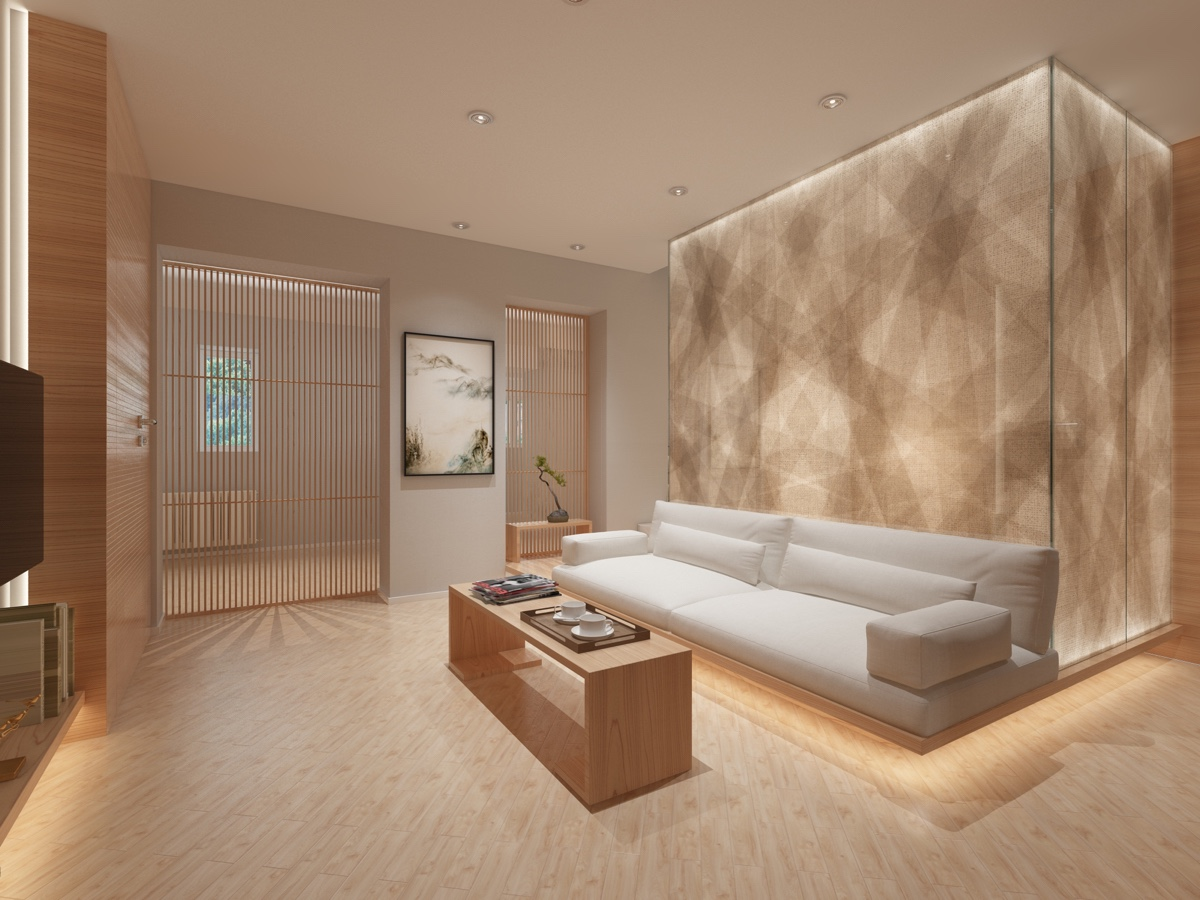TV: (0, 359, 48, 587)
sofa: (551, 490, 1063, 757)
table: (443, 568, 699, 818)
wall art: (397, 325, 499, 482)
